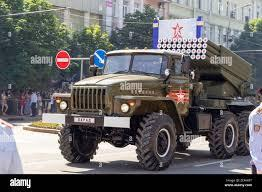MIL_SAM_TEL: (59, 33, 258, 168)
